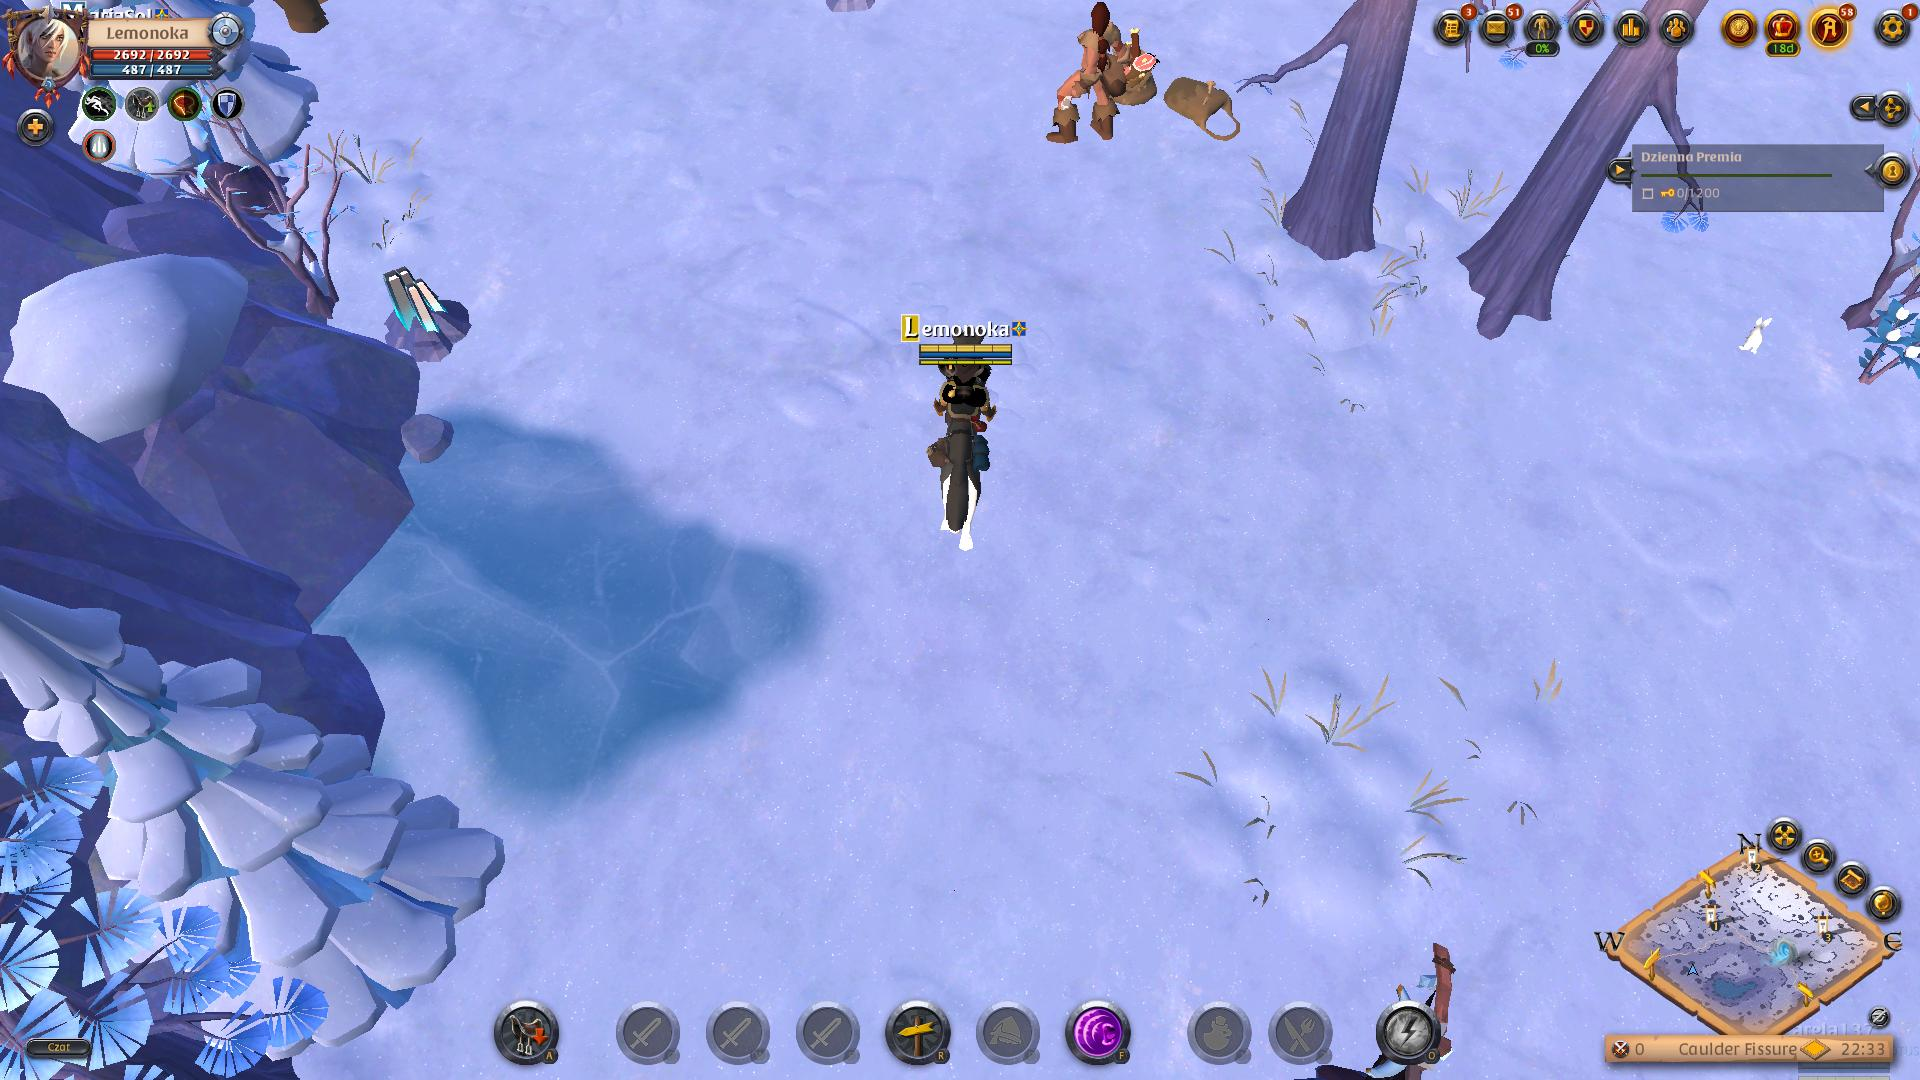fiber tier 4: (378, 261, 475, 359)
